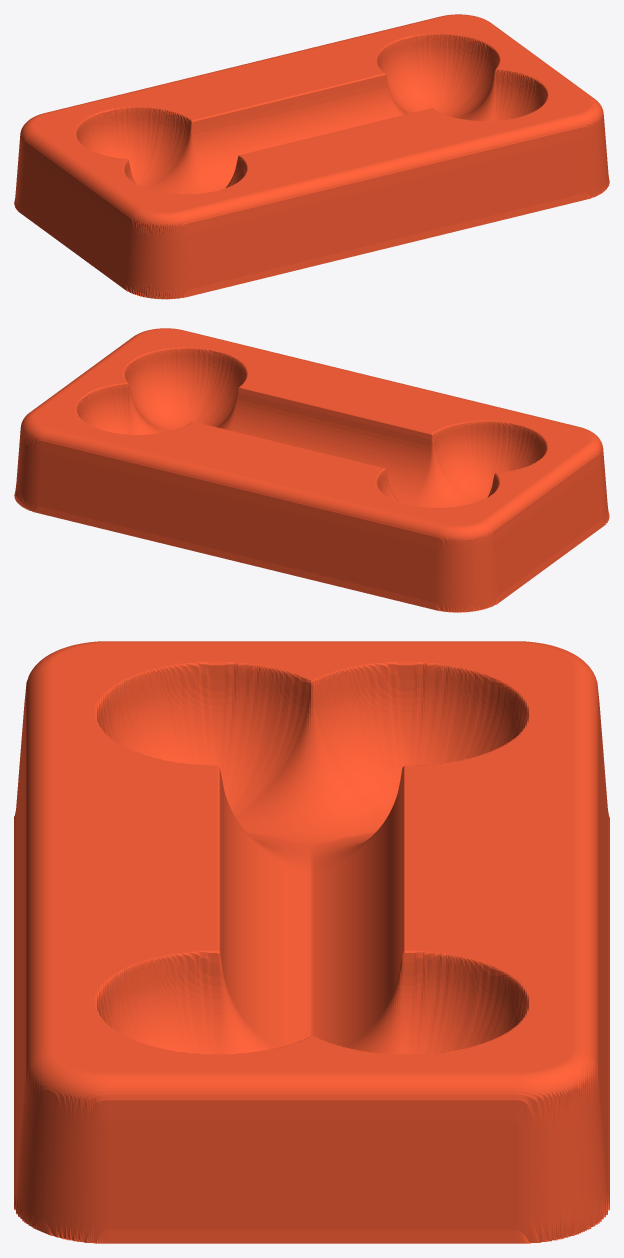
Rendered from mold.glb.
The picture shows the model from 3 angles, top to bottom: view 1: azimuth 30°, elevation 25°; view 2: azimuth 150°, elevation 25°; view 3: azimuth 270°, elevation 25°; orthographic projection. The views are drawn at different scales.
Parts seen in each view (by area): view 1: geometry_0; view 2: geometry_0; view 3: geometry_0.
Part boxes in pixels (left/top/right/bottom): geometry_0: left=14, top=14, right=609, bottom=299; geometry_0: left=14, top=328, right=609, bottom=612; geometry_0: left=14, top=641, right=609, bottom=1243.
Bounding box in the file's own units: 0.105 × 0.0165 × 0.0574.
